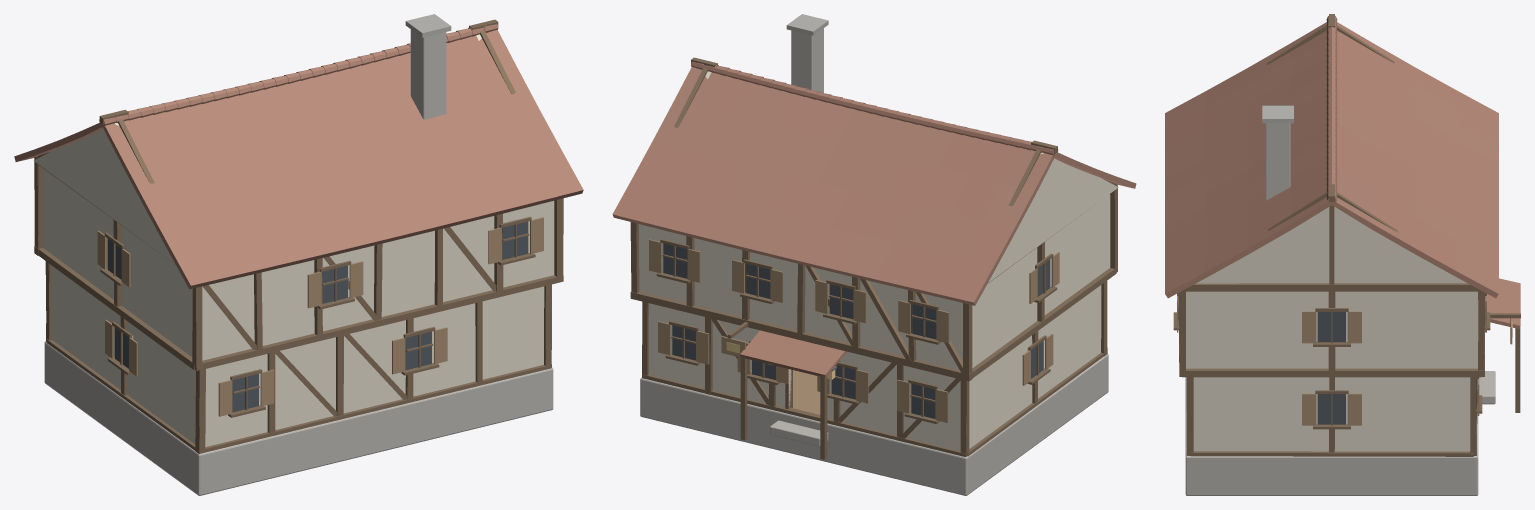
File: inn.glb
3 views of the same model, side by side, from view 1: azimuth 30°, elevation 25°; view 2: azimuth 150°, elevation 25°; view 3: azimuth 270°, elevation 25° (orthographic). The views are drawn at different scales.
Visible parts, largest first — view 1: inn; view 2: inn; view 3: inn.
Part boxes in pixels (<box>): inn: <box>14,14,583,495</box>; inn: <box>612,14,1136,495</box>; inn: <box>1165,14,1520,495</box>.
Bounding box in the file's own units: 13.7 × 12.22 × 11.3.
